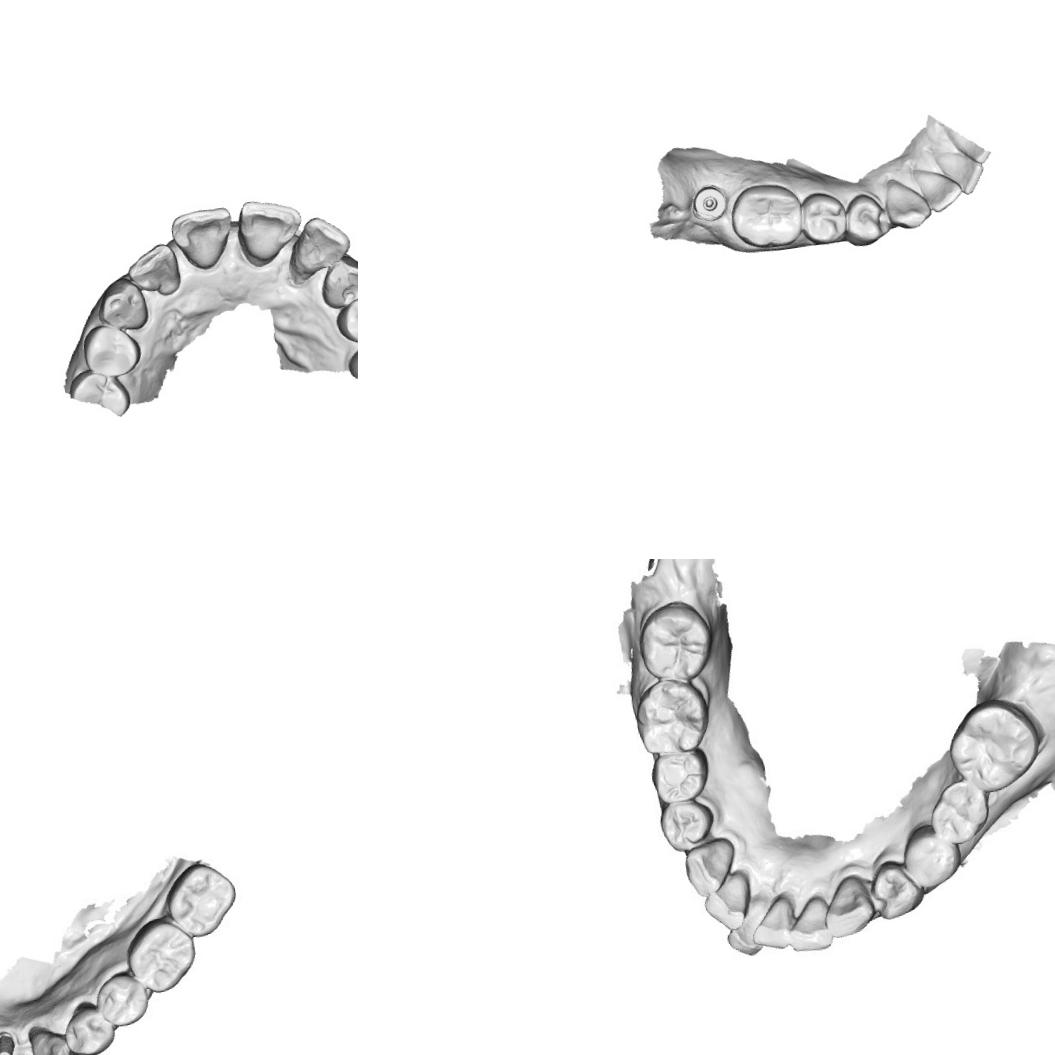abutment: (0, 1022, 18, 1055)
canine: (92, 272, 152, 335), (683, 836, 742, 898), (820, 871, 877, 932), (881, 172, 935, 233), (315, 251, 358, 310), (25, 1019, 77, 1055)
implant: (690, 182, 730, 225)
incisor: (232, 190, 308, 270), (282, 211, 356, 289), (167, 203, 239, 276), (123, 239, 183, 301), (719, 900, 776, 961), (930, 144, 988, 200), (910, 162, 966, 216), (790, 898, 836, 955), (756, 894, 800, 953), (704, 872, 752, 920)
molar: (161, 856, 244, 940), (950, 704, 1032, 783), (118, 914, 196, 996), (635, 601, 712, 684), (724, 178, 808, 254), (635, 679, 709, 756), (938, 779, 986, 840)
premolar: (90, 967, 159, 1033), (78, 318, 144, 381), (61, 995, 123, 1055), (795, 187, 852, 249), (839, 186, 890, 250), (656, 793, 713, 850), (872, 860, 926, 918), (904, 830, 956, 884), (651, 751, 702, 799), (332, 287, 358, 352)
